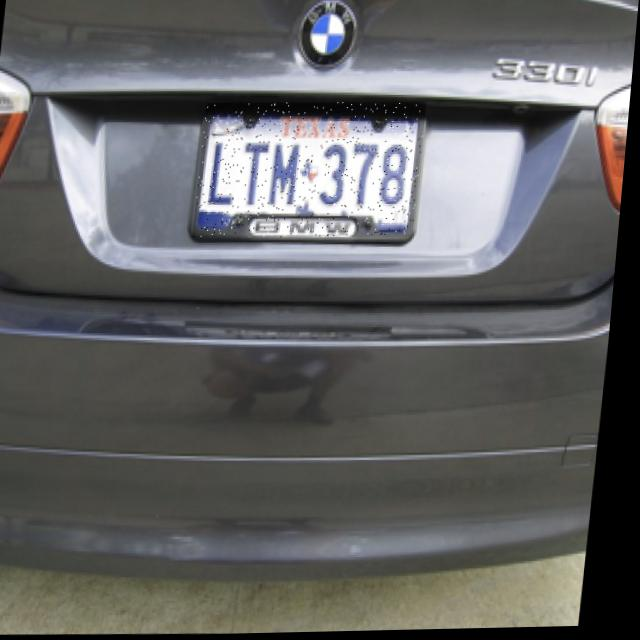license_plate: (196, 99, 428, 242)
